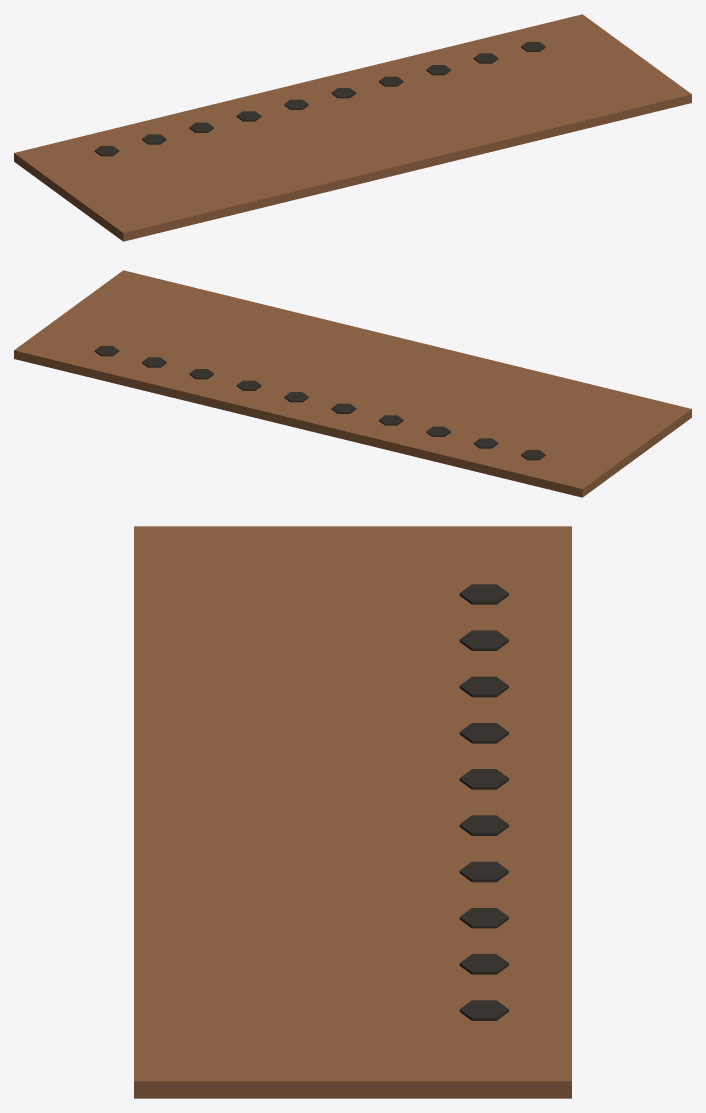
File: tabuleiro_pessoal.glb
3 renders of one model, top to bottom at view 1: azimuth 30°, elevation 25°; view 2: azimuth 150°, elevation 25°; view 3: azimuth 270°, elevation 25°, orthographic. The views are drawn at different scales.
Parts seen in each view (by area): view 1: tabuleiro_pessoal; view 2: tabuleiro_pessoal; view 3: tabuleiro_pessoal.
Part boxes in pixels (x1=…): tabuleiro_pessoal: x1=14, y1=14, x2=691, y2=241; tabuleiro_pessoal: x1=14, y1=270, x2=691, y2=497; tabuleiro_pessoal: x1=134, y1=526, x2=571, y2=1098.
Size of the model in its own units: 24 by 0.4 by 8.
